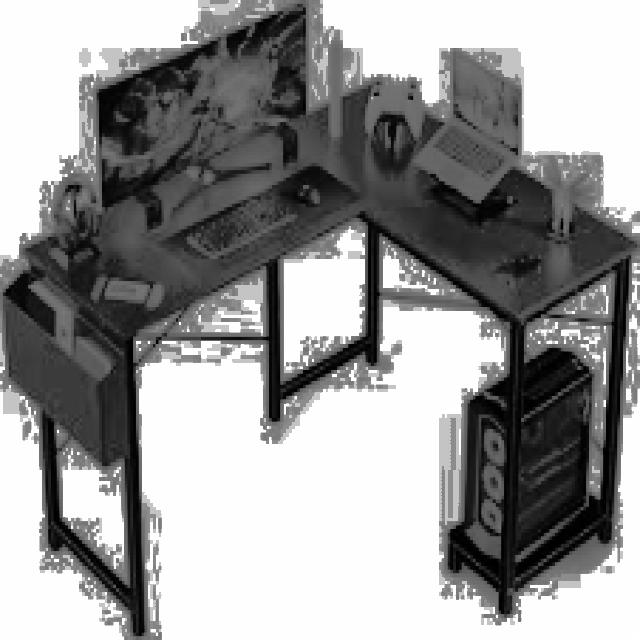table: (0, 70, 637, 633)
